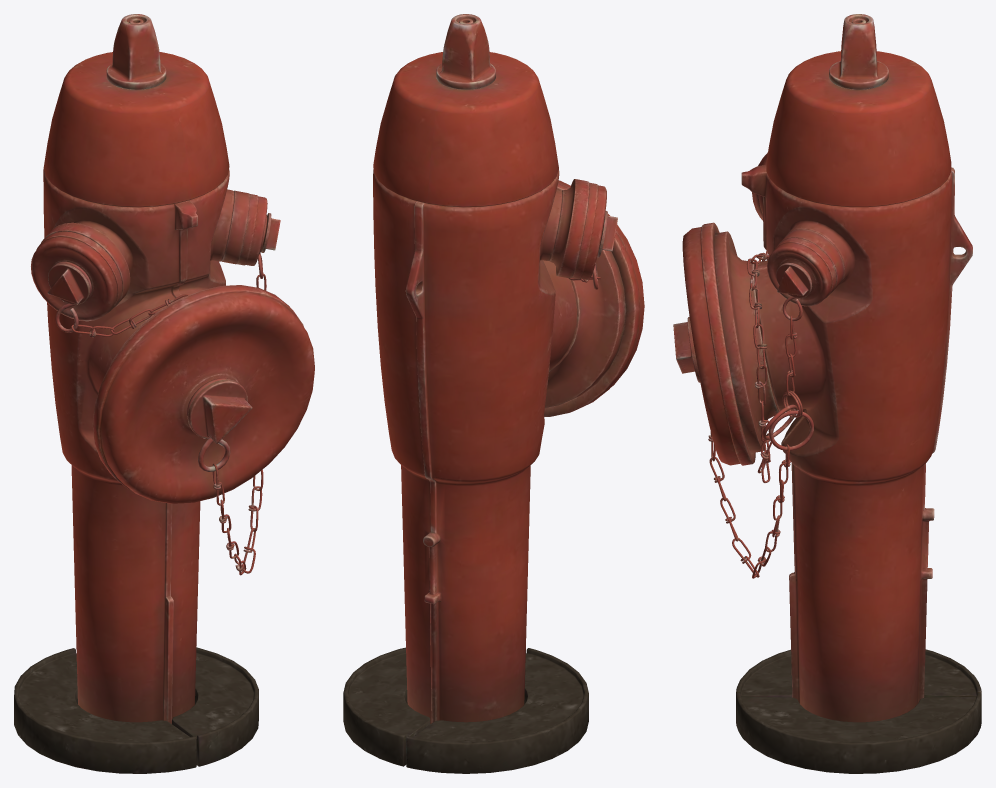
The model's file is fire-hydrant.glb.
The picture shows the model from 3 angles, left to right: view 1: azimuth 30°, elevation 25°; view 2: azimuth 150°, elevation 25°; view 3: azimuth 270°, elevation 25°; orthographic projection.
Parts seen in each view (by area): view 1: fire_hydrant, fire_hydrant_cap_01, fire_hydrant_cap_03, fire_hydrant_chain, fire_hydrant_cap_02; view 2: fire_hydrant, fire_hydrant_cap_01, fire_hydrant_cap_03; view 3: fire_hydrant, fire_hydrant_cap_01, fire_hydrant_chain, fire_hydrant_cap_02.
Boxes of the visible parts, x1,y1,x2,y2 form: fire_hydrant: (14, 14, 258, 773); fire_hydrant_cap_01: (92, 285, 314, 503); fire_hydrant_cap_03: (31, 231, 122, 321); fire_hydrant_chain: (55, 215, 267, 575); fire_hydrant_cap_02: (237, 194, 280, 265); fire_hydrant: (343, 14, 625, 773); fire_hydrant_cap_01: (544, 180, 644, 416); fire_hydrant_cap_03: (572, 182, 617, 279); fire_hydrant: (714, 14, 981, 773); fire_hydrant_cap_01: (673, 222, 755, 465); fire_hydrant_chain: (708, 250, 813, 578); fire_hydrant_cap_02: (767, 237, 836, 306).
Size of the model in its own units: 0.2746 by 0.7995 by 0.3177.
Materials: 1 (1 with a texture image).
